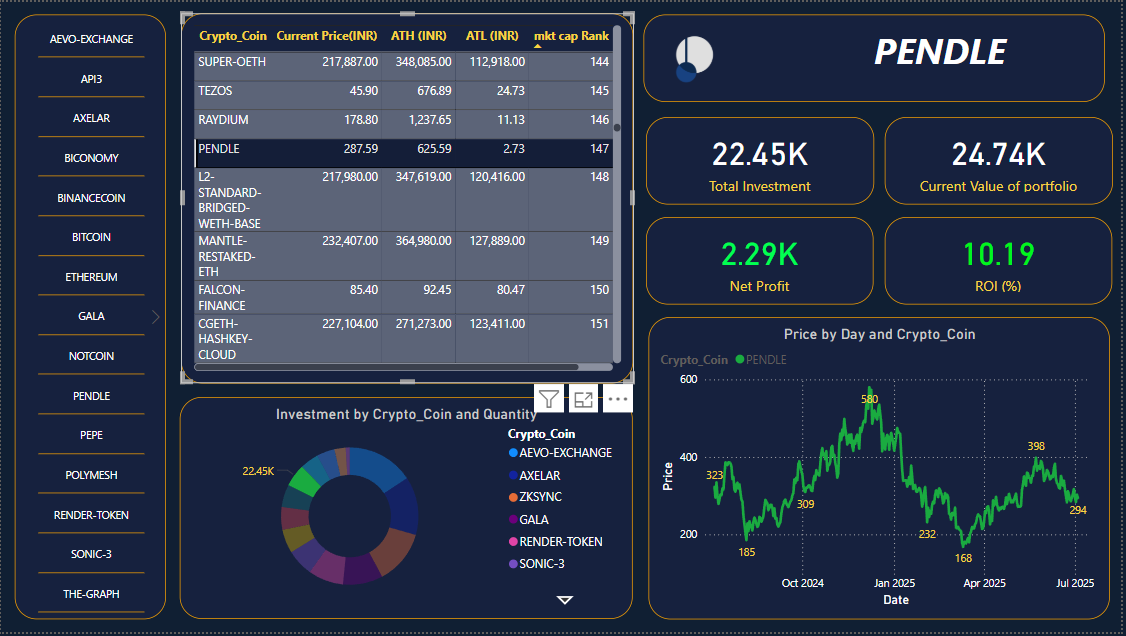

Layout of this report page (visuals, bound fields, positions):
{"tool":"powerbi","page":{"name":"Overview","canvas":[1280,720],"ordinal":0},"visuals":[{"type":"tableEx","fields":{"Values":["Crypto_coin data.Crypto_Coin","Crypto_coin data.Current Price(INR)","Crypto_coin data.ATH (INR)","Crypto_coin data.ATL (INR)","Crypto_coin data.Market Cap Rank","Crypto_coin data.image"]},"box":[205.7,12.9,517.1,422.9],"z":0},{"type":"lineChart","title":" Price by Day and Crypto_Coin","fields":{"Category":["Historical coin data.Date"],"Y":["Avg(Historical coin data.Price)"],"Series":["Historical coin data.Crypto_Coin"]},"box":[737.4,359.5,527,346.1],"z":1000},{"type":"donutChart","title":"Investment by Crypto_Coin and Quantity","fields":{"Category":["Portfolio.Crypto_Coin"],"Y":["Avg(Portfolio.Initial Investment)"],"Series":["Portfolio.Quantity"]},"box":[204.5,451.5,517.3,253.9],"z":2000},{"type":"card","fields":{"Values":["Portfolio.Initial Investment of portfoilio"]},"box":[736.9,131,260.7,100],"z":3000},{"type":"card","fields":{"Values":["Portfolio.Current Value of portfolio"]},"box":[1010,131,260.7,100.2],"z":4000},{"type":"card","fields":{"Values":["Portfolio.ROI (%)"]},"box":[1010,245,260,100],"z":5000},{"type":"card","fields":{"Values":["Portfolio.Net Profit"]},"box":[737.1,245,260,100],"z":6000},{"type":"slicer","fields":{"Values":["Portfolio.Crypto_Coin"]},"box":[15.7,14.3,172.9,691.4],"z":7000},{"type":"multiRowCard","fields":{"Values":["Crypto_coin data.image1","Portfolio.Coin Name"]},"box":[734.3,14.3,527.1,100],"z":8000},{"type":"actionButton","box":[838.6,31.4,148.6,65.7],"z":9000}]}

Visuals, with their boxes in screenshot pixels (x1, y1, x2, y2), scaled from the page's 1280x720 canvas onto the 1126x636 screenshot:
tableEx - Crypto_coin data.Crypto_Coin x Crypto_coin data.Current Price(INR): (left=181, top=11, right=636, bottom=385)
" Price by Day and Crypto_Coin" lineChart: (left=649, top=318, right=1112, bottom=623)
"Investment by Crypto_Coin and Quantity" donutChart: (left=180, top=399, right=635, bottom=623)
card - Portfolio.Initial Investment of portfoilio: (left=648, top=116, right=878, bottom=204)
card - Portfolio.Current Value of portfolio: (left=888, top=116, right=1118, bottom=204)
card - Portfolio.ROI (%): (left=888, top=216, right=1117, bottom=305)
card - Portfolio.Net Profit: (left=648, top=216, right=877, bottom=305)
slicer - Portfolio.Crypto_Coin: (left=14, top=13, right=166, bottom=623)
multiRowCard - Crypto_coin data.image1 x Portfolio.Coin Name: (left=646, top=13, right=1110, bottom=101)
actionButton: (left=738, top=28, right=868, bottom=86)
